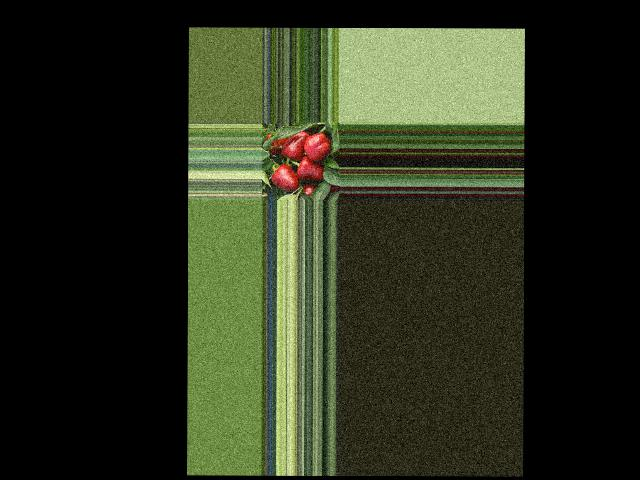bell_pepper: (303, 130, 330, 167)
